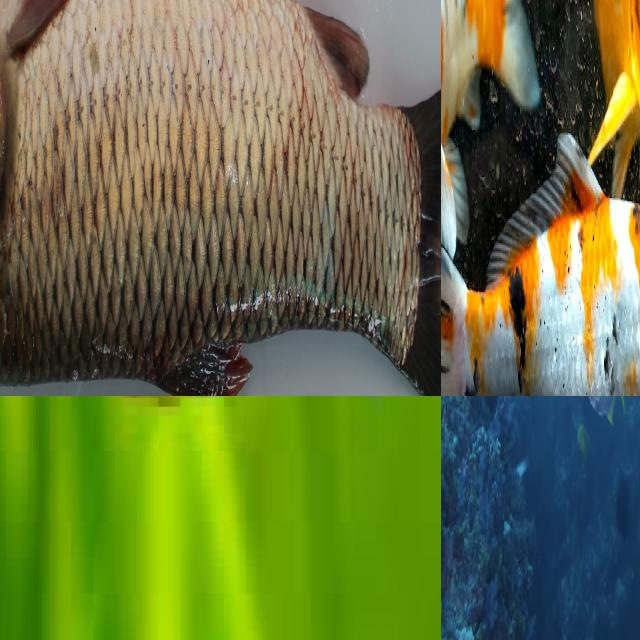fish: (0, 0, 441, 396), (0, 396, 428, 522), (441, 0, 640, 83)
